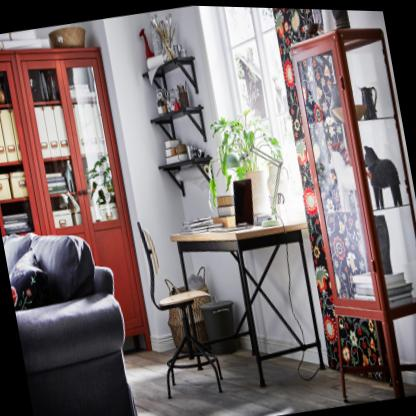Chair: (134, 206, 229, 404)
Sofa: (1, 213, 145, 416)
